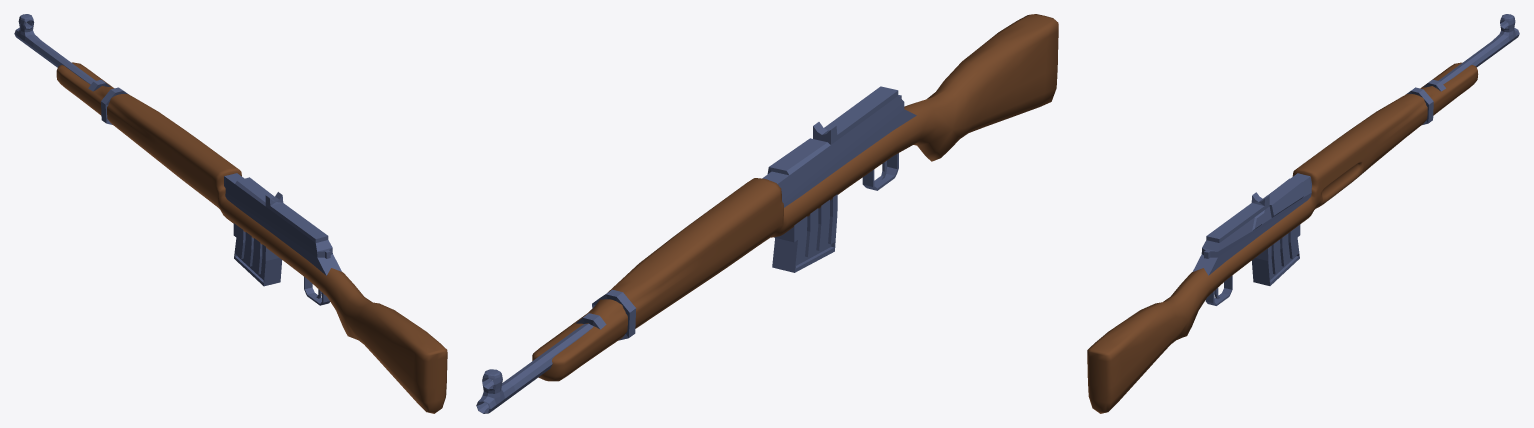
The picture shows the model from 3 angles, left to right: view 1: azimuth 30°, elevation 25°; view 2: azimuth 150°, elevation 25°; view 3: azimuth 330°, elevation 25°; orthographic projection. The views are drawn at different scales.
Parts seen in each view (by area): view 1: AG42B; view 2: AG42B; view 3: AG42B.
Part boxes in pixels (left/top/right/bottom): AG42B: left=14, top=14, right=447, bottom=413; AG42B: left=476, top=14, right=1058, bottom=413; AG42B: left=1087, top=14, right=1519, bottom=413.
Bounding box in the file's own units: 0.047 × 0.1628 × 1.21.
